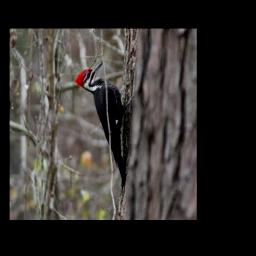Woodpecker: (72, 61, 135, 192)
